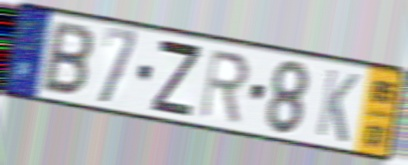7: (98, 23, 139, 110)
8: (265, 58, 311, 137)
B: (39, 18, 96, 100)
K: (313, 65, 362, 146)
R: (198, 47, 252, 126)
Z: (149, 36, 203, 120)
